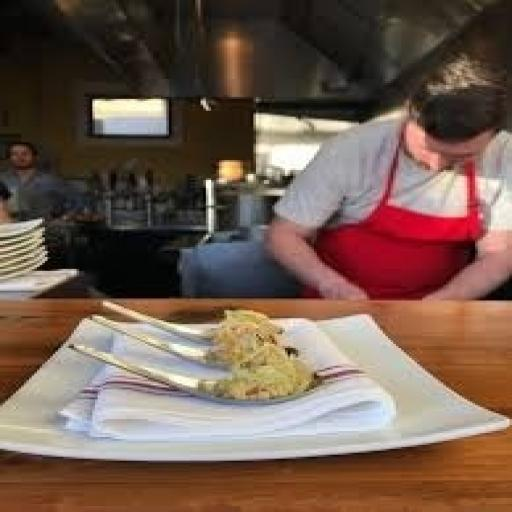eating: (174, 52, 510, 302)
